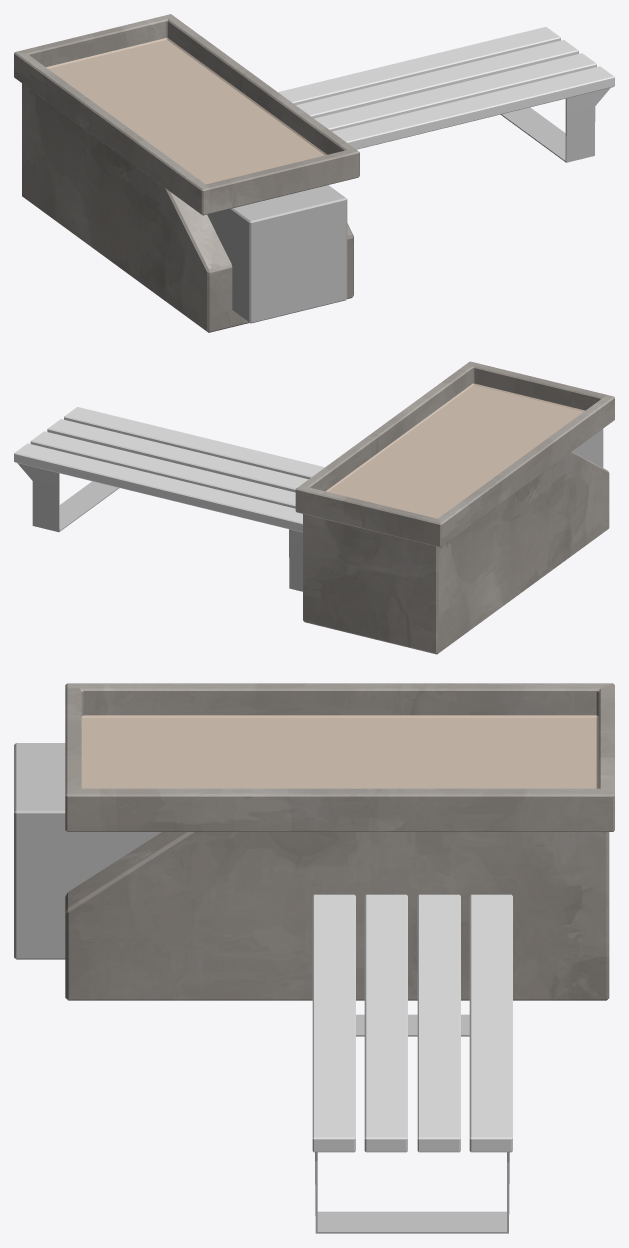
The model's file is MESH_BenchModule1.fbx.
3 views of the same model, one above another, from view 1: azimuth 30°, elevation 25°; view 2: azimuth 150°, elevation 25°; view 3: azimuth 270°, elevation 25° (orthographic). The views are drawn at different scales.
Parts seen in each view (by area): view 1: Plane.001; view 2: Plane.001; view 3: Plane.001.
Boxes of the visible parts, x1,y1,x2,y2 form: Plane.001: [14, 14, 614, 332]; Plane.001: [14, 361, 614, 654]; Plane.001: [14, 683, 614, 1233].
Size of the model in its own units: 378 by 105 by 271.
